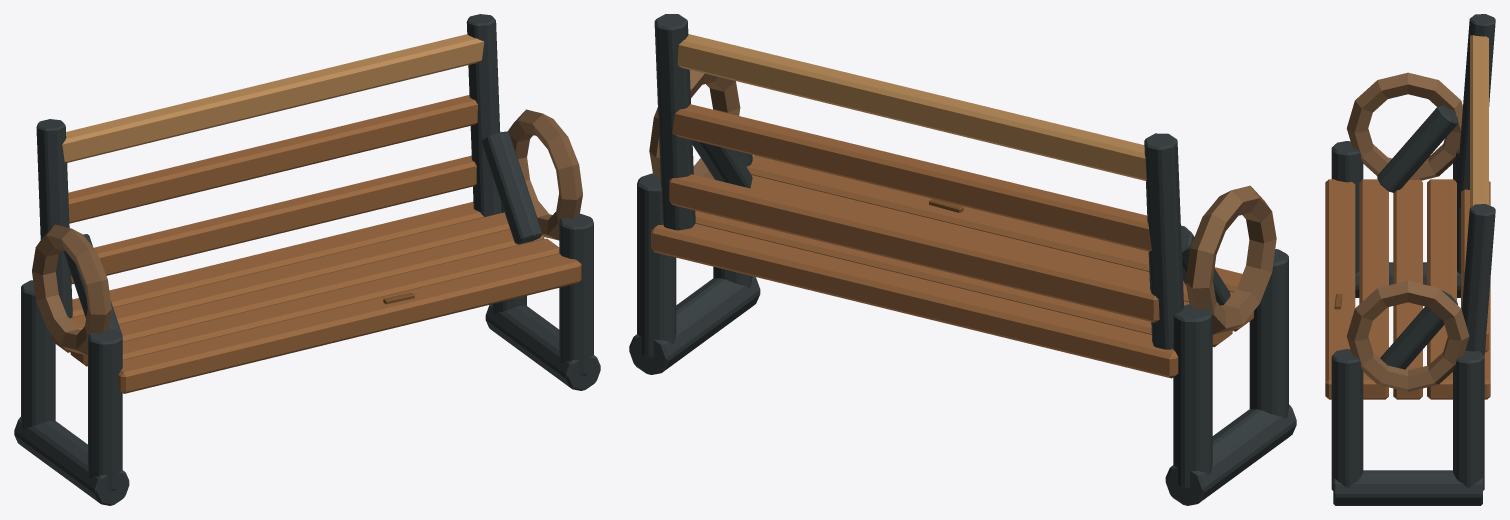
File: runtime.glb
The picture shows the model from 3 angles, left to right: view 1: azimuth 30°, elevation 25°; view 2: azimuth 150°, elevation 25°; view 3: azimuth 270°, elevation 25°; orthographic projection. The views are drawn at different scales.
Visible parts, largest first — view 1: eiffel-historic-bench-v01_nocol; view 2: eiffel-historic-bench-v01_nocol; view 3: eiffel-historic-bench-v01_nocol.
Boxes of the visible parts, x1,y1,x2,y2 form: eiffel-historic-bench-v01_nocol: (14, 14, 600, 505); eiffel-historic-bench-v01_nocol: (629, 14, 1296, 505); eiffel-historic-bench-v01_nocol: (1325, 14, 1495, 505).
Size of the model in its own units: 2.08 by 1.24 by 0.6673.
